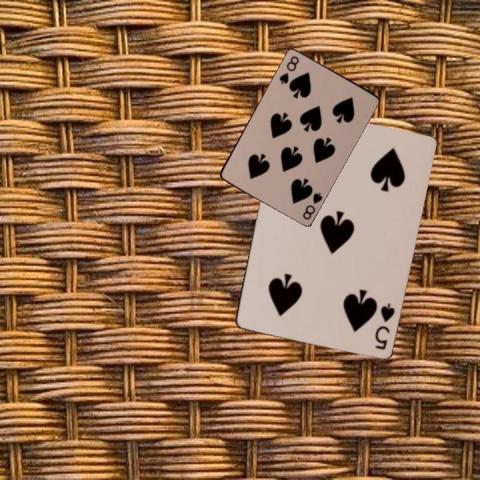5s: (371, 299, 396, 351)
8s: (276, 53, 301, 85), (299, 189, 324, 221)
